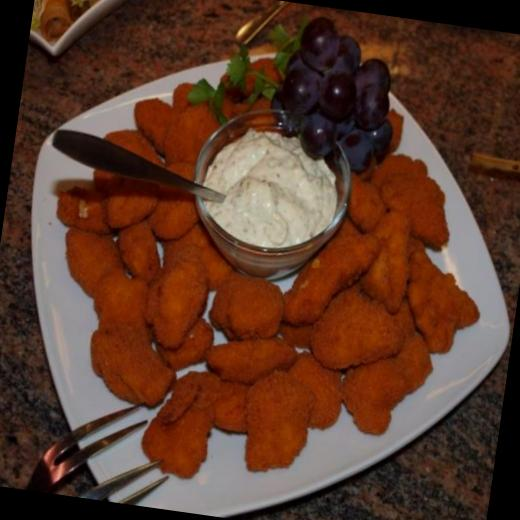Orange: (258, 12, 409, 178)
